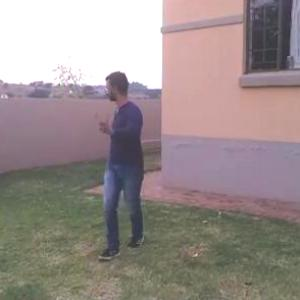takeoff-hand: (94, 106, 118, 141)
